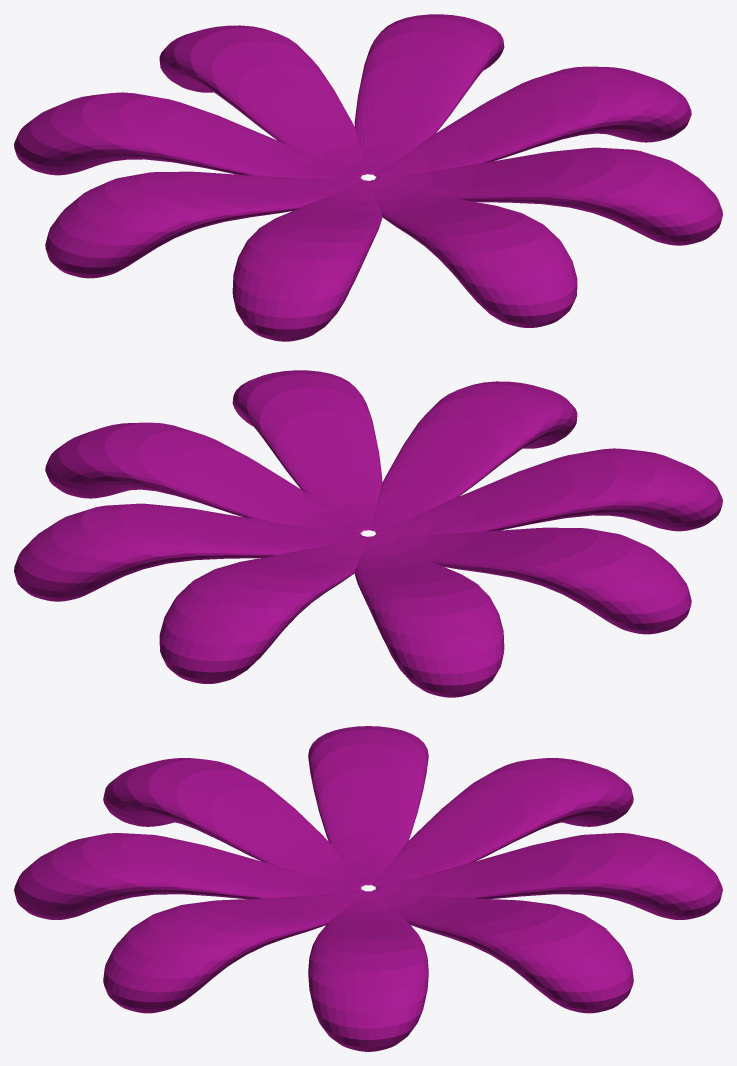
File: petalas.obj
3 views of the same model, one above another, from view 1: azimuth 30°, elevation 25°; view 2: azimuth 150°, elevation 25°; view 3: azimuth 270°, elevation 25° (orthographic). The views are drawn at different scales.
Visible parts, largest first — view 1: Sphere.001; view 2: Sphere.001; view 3: Sphere.001.
Boxes of the visible parts, left/top/right/bottom form: Sphere.001: left=14, top=14, right=722, bottom=341; Sphere.001: left=14, top=370, right=722, bottom=697; Sphere.001: left=14, top=726, right=722, bottom=1051.
Size of the model in its own units: 11.75 by 1.21 by 11.75.
